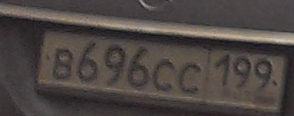character: (76, 40, 100, 84), (103, 44, 125, 89), (129, 45, 150, 91), (152, 56, 176, 94), (179, 58, 203, 94), (232, 54, 253, 90), (52, 46, 74, 80), (254, 54, 273, 91), (215, 53, 231, 88)
